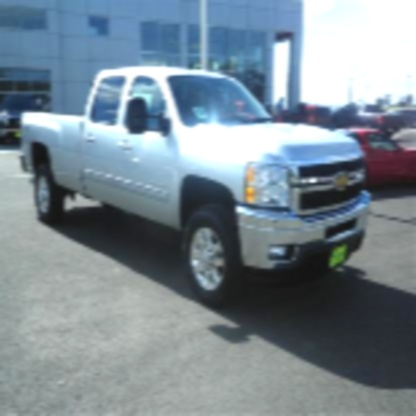Vehicle: (20, 68, 374, 306)
